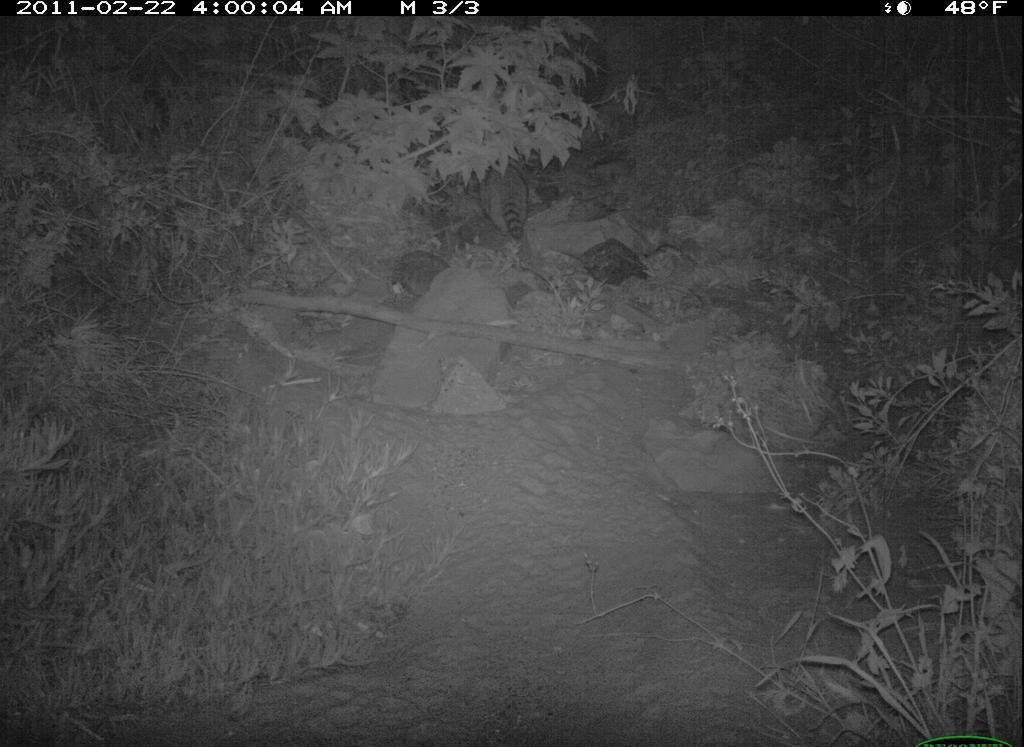raccoon: (477, 148, 545, 253)
